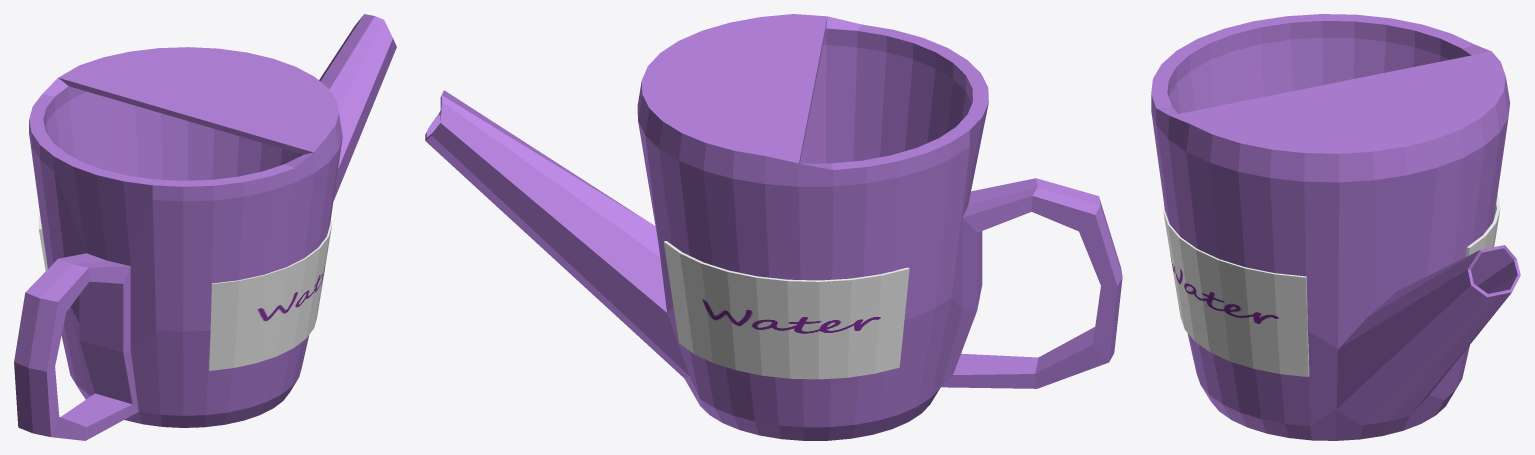
The model's file is water.gltf.
3 renders of one model, left to right at view 1: azimuth 30°, elevation 25°; view 2: azimuth 150°, elevation 25°; view 3: azimuth 270°, elevation 25°, orthographic. The views are drawn at different scales.
Visible parts, largest first — view 1: Circle, Cylinder; view 2: Circle, Cylinder.001; view 3: Circle, Cylinder, Cylinder.001.
Part boxes in pixels (x1,y1,x2,y2): Circle: (14, 14, 396, 440); Cylinder: (208, 219, 332, 370); Circle: (425, 14, 1122, 440); Cylinder.001: (664, 241, 909, 379); Circle: (1151, 14, 1520, 440); Cylinder: (1163, 205, 1309, 376); Cylinder.001: (1465, 194, 1500, 256).
Size of the model in its own units: 4.01 by 2.09 by 2.26.
Materials: 2 (1 with a texture image).
